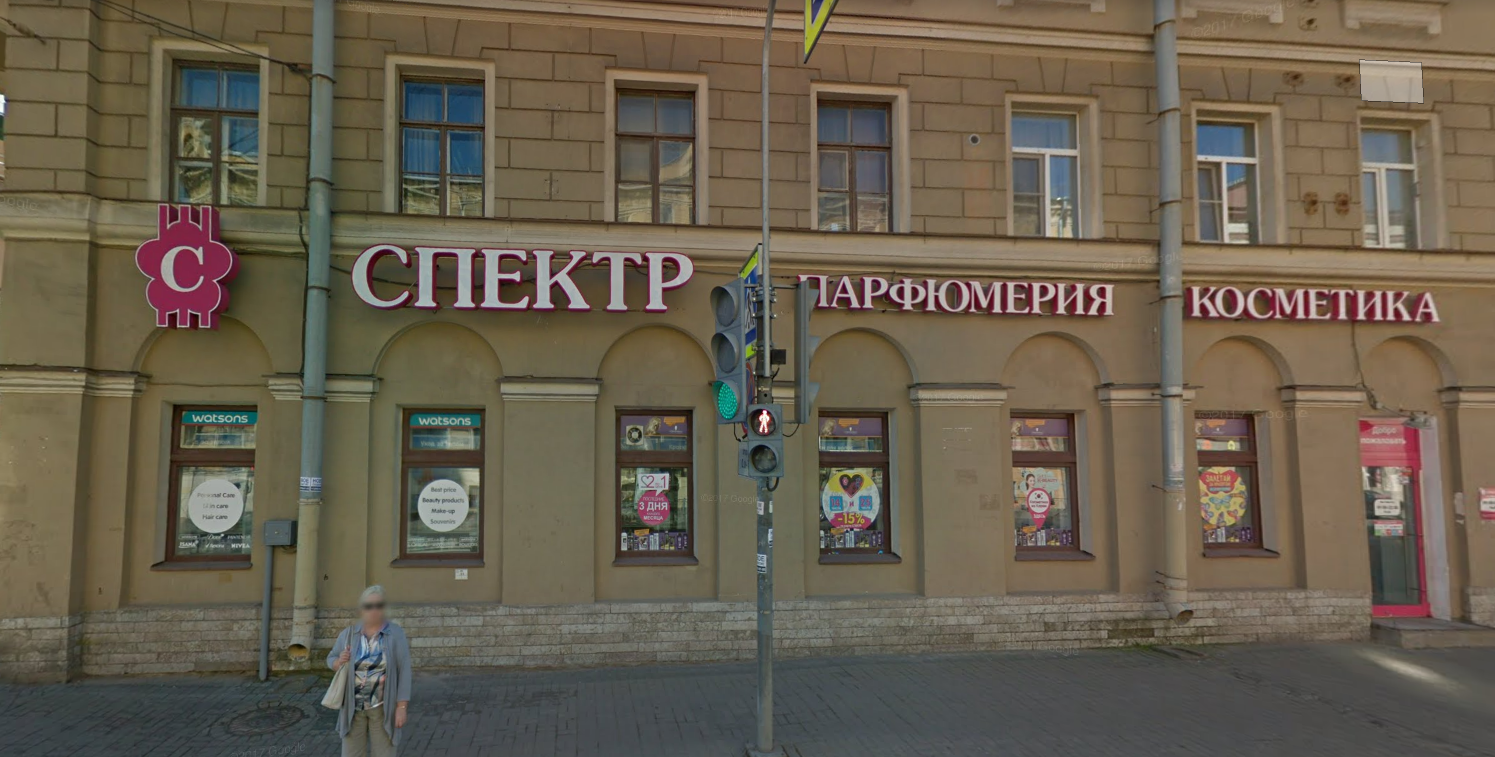door: (1359, 416, 1423, 632)
signboard: (796, 261, 1447, 337), (349, 233, 696, 322), (128, 199, 243, 340)
window: (157, 404, 263, 568), (386, 408, 479, 558), (165, 64, 264, 201), (396, 75, 487, 221), (1000, 413, 1081, 565), (612, 411, 693, 563), (613, 85, 698, 220), (815, 412, 889, 566), (815, 92, 894, 234), (1012, 108, 1092, 235), (1193, 113, 1265, 241), (1351, 124, 1423, 245), (1203, 414, 1265, 552)
